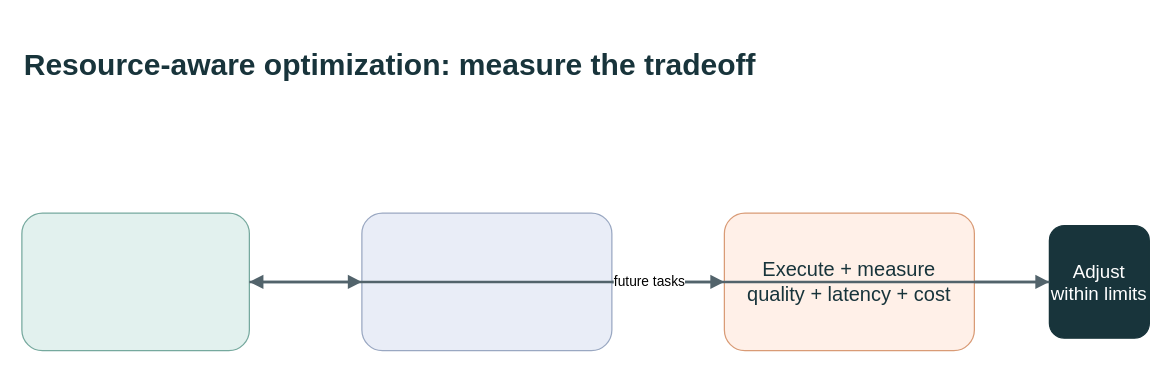
Image size: 1171x373. Some labels were removed from this diagram. The centre of each missing label's shape, as x and y in pixels:
"Select resources model + tools + context" goes at point 486,281.
"Task contract quality + budget" goes at point 135,281.
